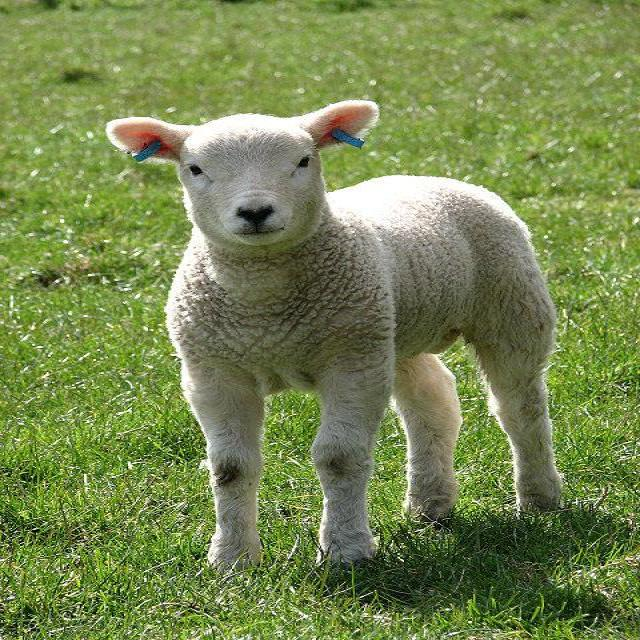Sheep: (105, 98, 566, 574)
